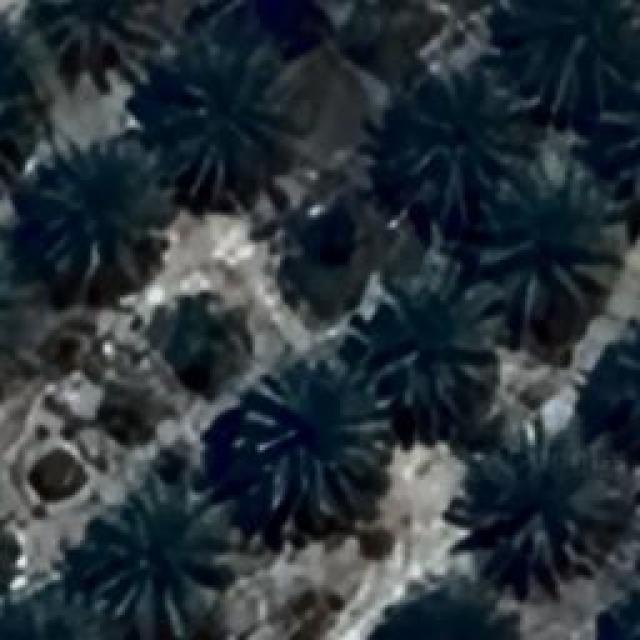PalmTree: (100, 38, 445, 616), (82, 478, 242, 632), (462, 414, 622, 568), (240, 370, 390, 525), (350, 265, 505, 413), (26, 165, 159, 285), (487, 200, 615, 320), (390, 102, 505, 206), (512, 0, 616, 98), (160, 62, 265, 158), (155, 299, 248, 388), (597, 334, 640, 444), (595, 110, 640, 208), (0, 55, 34, 183), (0, 262, 35, 382), (1, 599, 103, 640), (599, 592, 640, 640)
